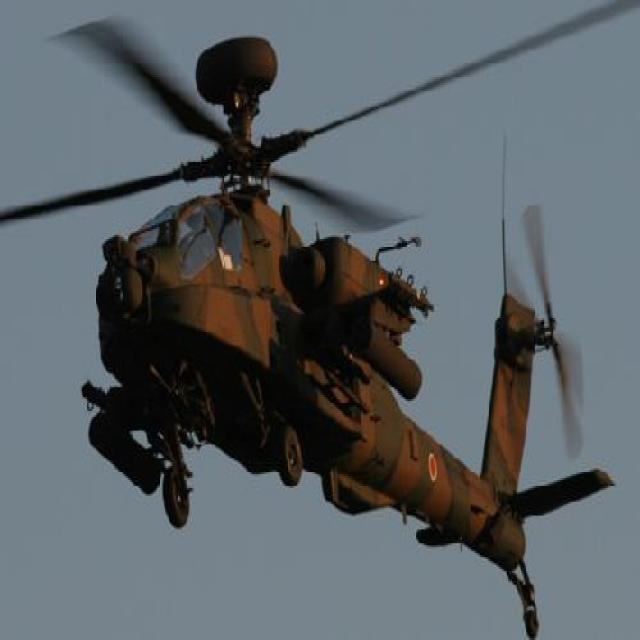MIL_HELO: (0, 0, 618, 640)
